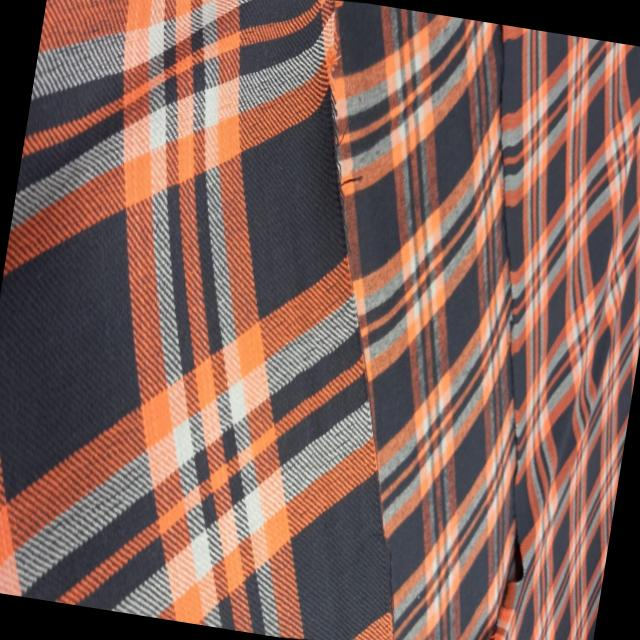cut: (415, 23, 597, 510), (253, 12, 434, 423), (343, 444, 434, 640), (476, 519, 539, 640)
